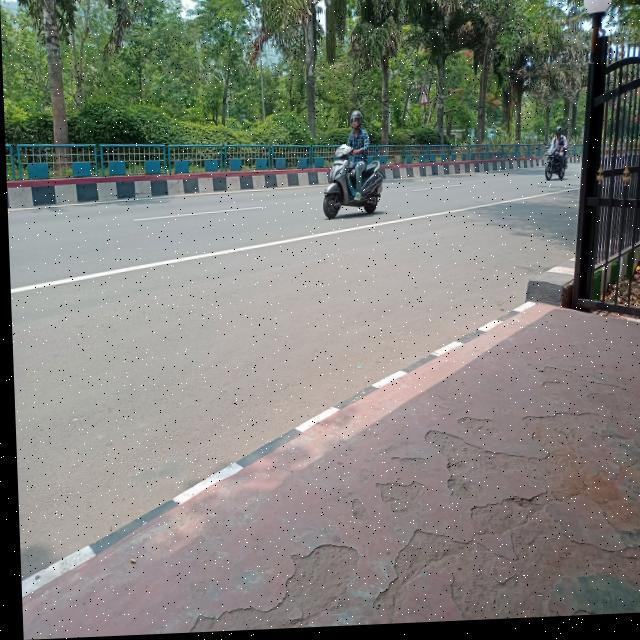bike: (316, 143, 386, 227), (543, 146, 567, 191)
